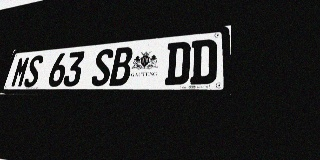3: (62, 51, 85, 87)
6: (47, 52, 69, 87)
B: (109, 46, 134, 86)
D: (190, 39, 217, 84), (164, 41, 191, 85)
M: (10, 56, 31, 87)
S: (90, 48, 114, 86), (23, 55, 44, 87)
